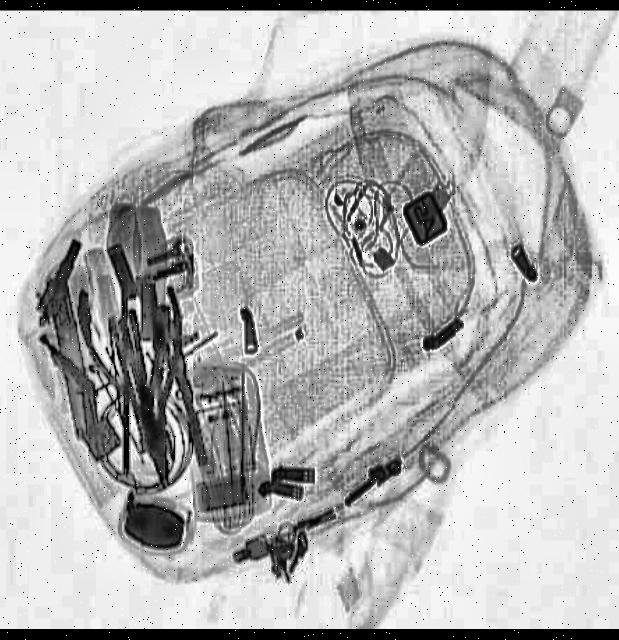Pliers: (71, 270, 216, 498)
